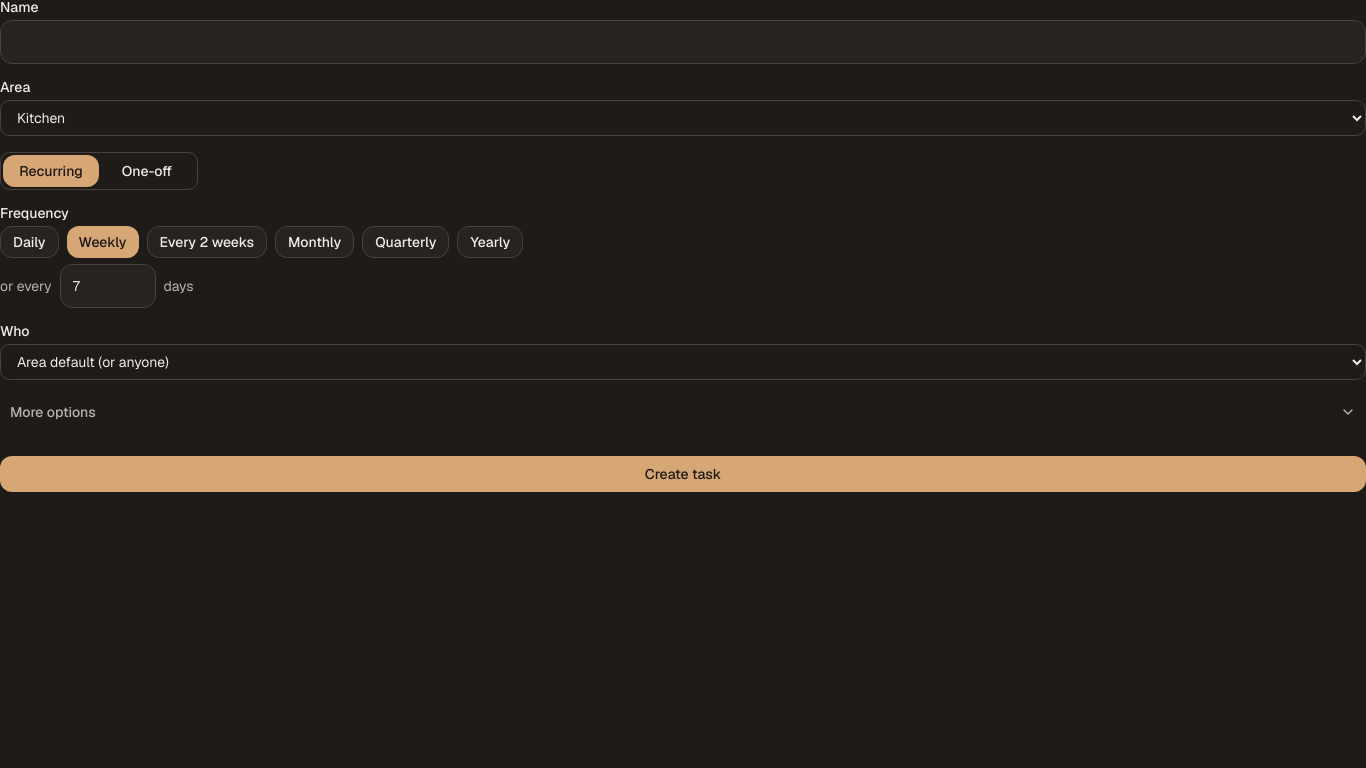
Scenario: TaskForm progressive disclosure › schedule mode carries the plain-English helper
Click the button "More options". click: x=53, y=412
box: x1=0 y1=396 x2=1365 y2=428
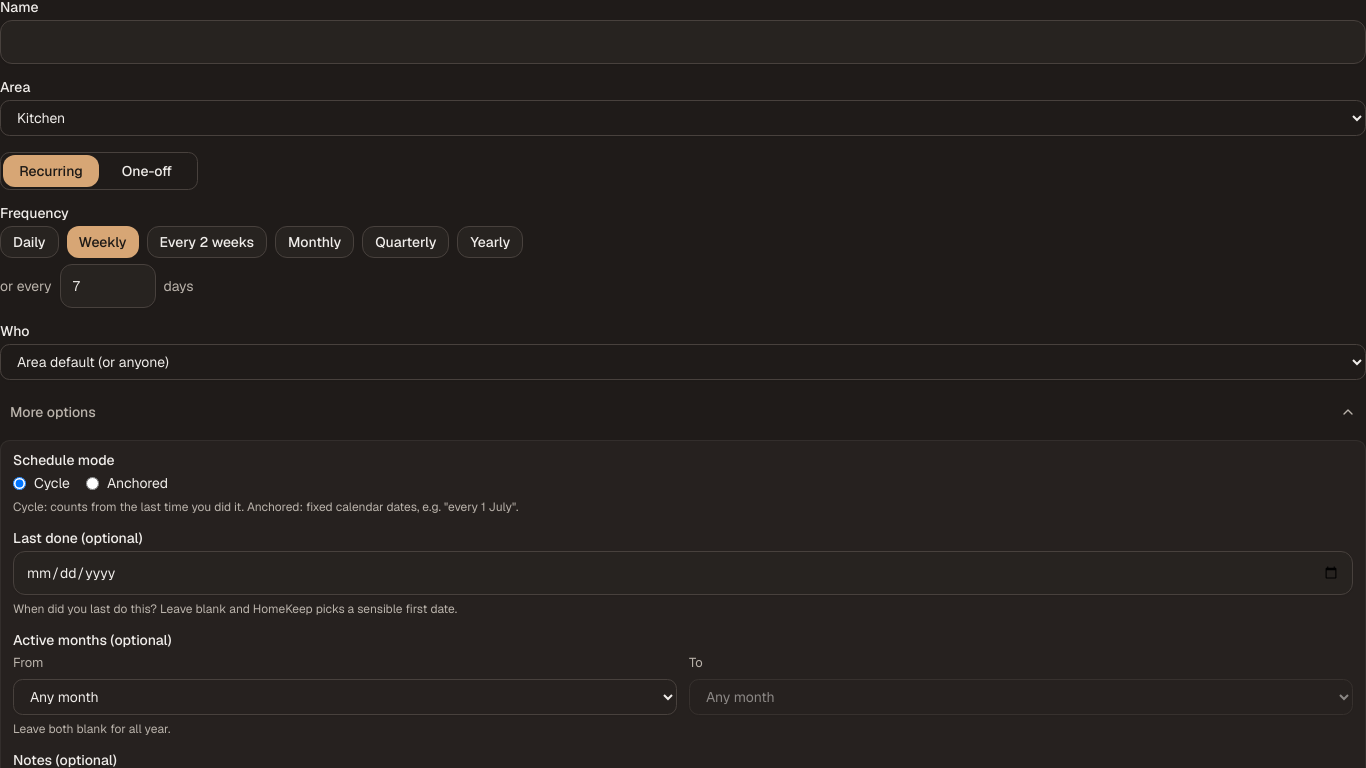
Expected: the text "Cycle: counts from the last time you did it. Anchored: fixed calendar dates, e.g. \"every 1 July\"." is shown, x1=13 y1=499 x2=518 y2=515
